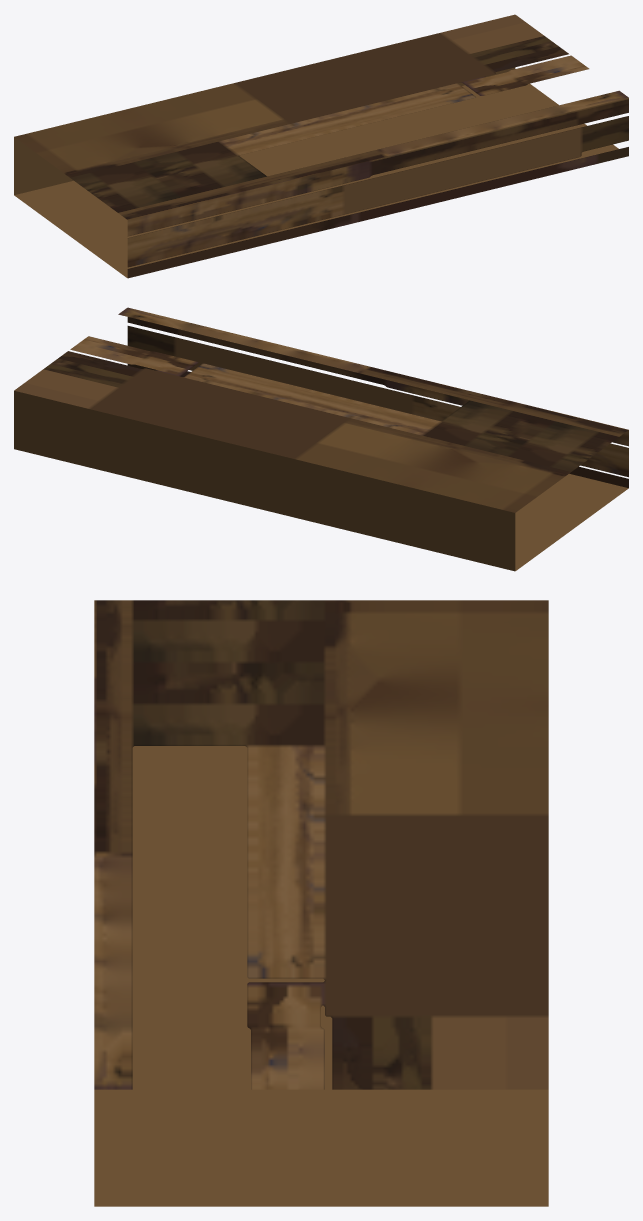
File: section-1.obj
3 views of the same model, one above another, from view 1: azimuth 30°, elevation 25°; view 2: azimuth 150°, elevation 25°; view 3: azimuth 270°, elevation 25° (orthographic). The views are drawn at different scales.
Bounding box in the file's own units: 1 × 0.1115 × 0.3926.
